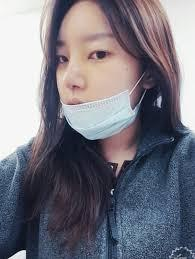Wore Mask Incorrectly: (46, 0, 178, 156)
